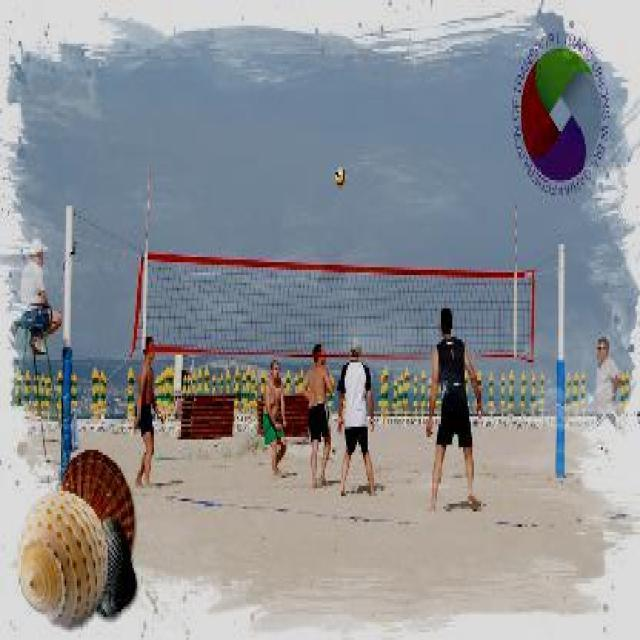volleyball: (331, 168, 347, 188)
